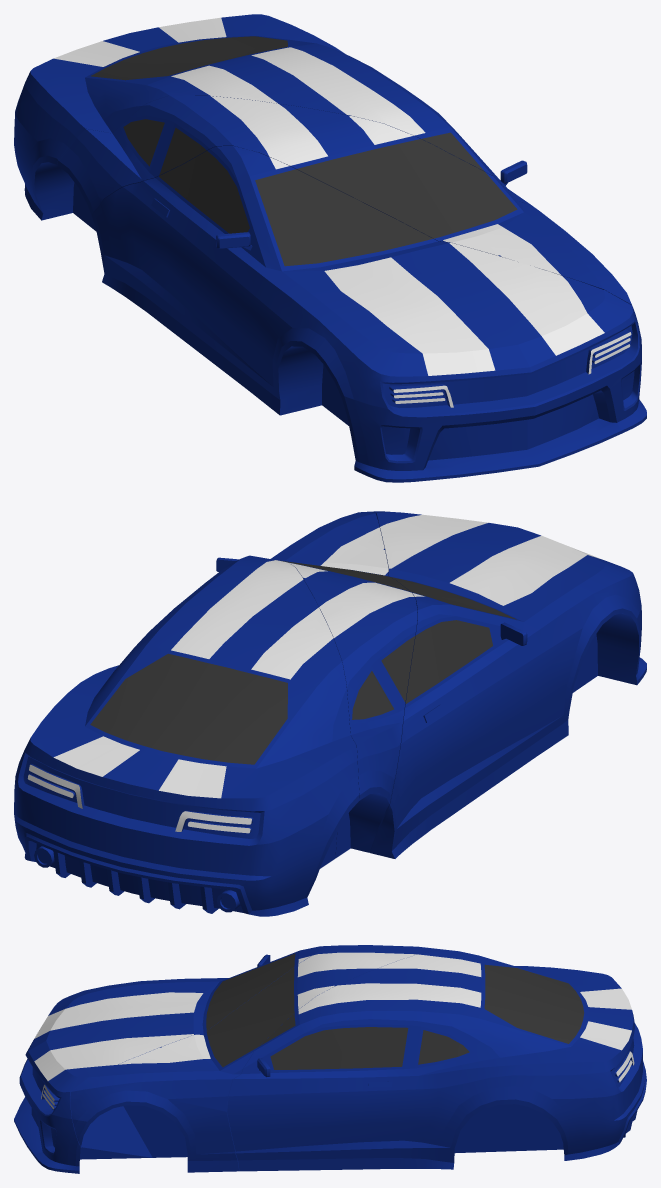
File: BlueCarFractured.fbx
The picture shows the model from 3 angles, top to bottom: view 1: azimuth 30°, elevation 25°; view 2: azimuth 150°, elevation 25°; view 3: azimuth 270°, elevation 25°; orthographic projection. The views are drawn at different scales.
Visible parts, largest first — view 1: Body_cell.026, Body_cell.028, Body_cell.027, Body_cell.031, Body_cell.043; view 2: Body_cell.027, Body_cell.026, Body_cell.028, Body_cell.052, Body_cell.051, Body_cell.043, Body_cell.042; view 3: Body_cell.027, Body_cell.028, Body_cell.026.
Part boxes in pixels (bbox=[...]): Body_cell.026: bbox=[92, 146, 646, 482]; Body_cell.028: bbox=[57, 95, 631, 304]; Body_cell.027: bbox=[14, 14, 530, 231]; Body_cell.031: bbox=[389, 329, 631, 407]; Body_cell.043: bbox=[216, 160, 527, 248]; Body_cell.027: bbox=[14, 555, 359, 916]; Body_cell.026: bbox=[370, 511, 646, 858]; Body_cell.028: bbox=[271, 511, 417, 858]; Body_cell.052: bbox=[34, 846, 240, 913]; Body_cell.051: bbox=[175, 810, 253, 831]; Body_cell.043: bbox=[216, 557, 527, 645]; Body_cell.042: bbox=[29, 764, 84, 808]; Body_cell.027: bbox=[227, 949, 646, 1171]; Body_cell.028: bbox=[70, 945, 441, 1172]; Body_cell.026: bbox=[14, 945, 336, 1173].
Size of the model in its own units: 2.06 by 1.23 by 4.82.
